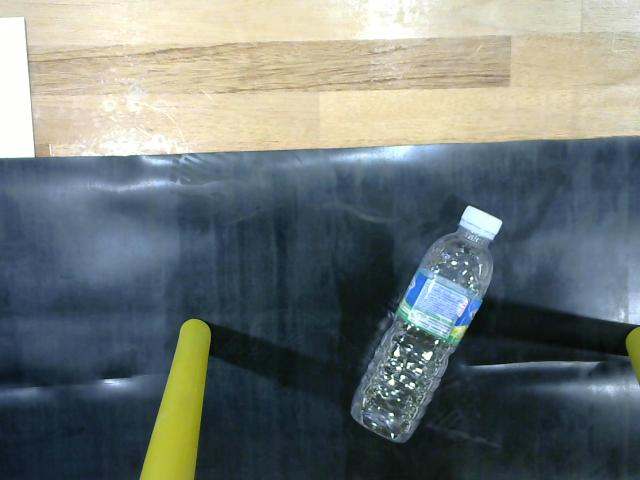bottle: (340, 200, 514, 454)
